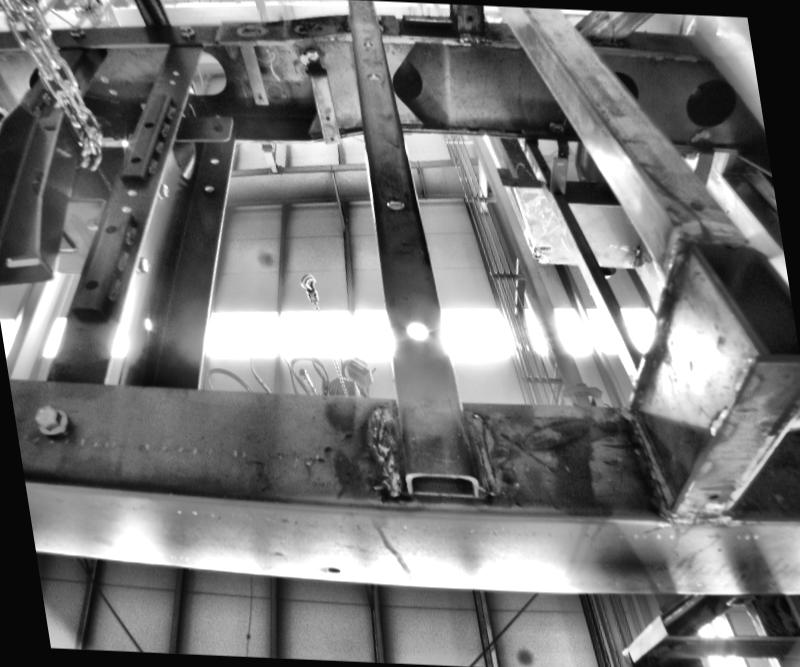bolt: (25, 401, 65, 433), (128, 252, 150, 272), (154, 180, 174, 202), (64, 25, 88, 42), (176, 23, 200, 39)
bracket: (304, 48, 338, 152), (178, 105, 236, 140), (539, 146, 579, 194), (243, 37, 271, 105)
hole: (399, 310, 432, 340), (384, 195, 410, 213), (689, 192, 709, 204), (136, 311, 150, 327), (708, 490, 722, 502), (366, 72, 382, 80), (206, 119, 220, 127), (119, 205, 133, 212), (128, 189, 138, 197), (168, 78, 178, 86), (554, 160, 565, 166), (466, 12, 474, 20), (210, 158, 220, 164), (203, 184, 213, 190), (327, 568, 341, 572), (362, 39, 372, 44), (256, 93, 264, 99), (324, 116, 332, 122), (172, 69, 180, 75), (328, 136, 336, 140)
welding: (462, 402, 506, 494), (372, 396, 396, 502)
